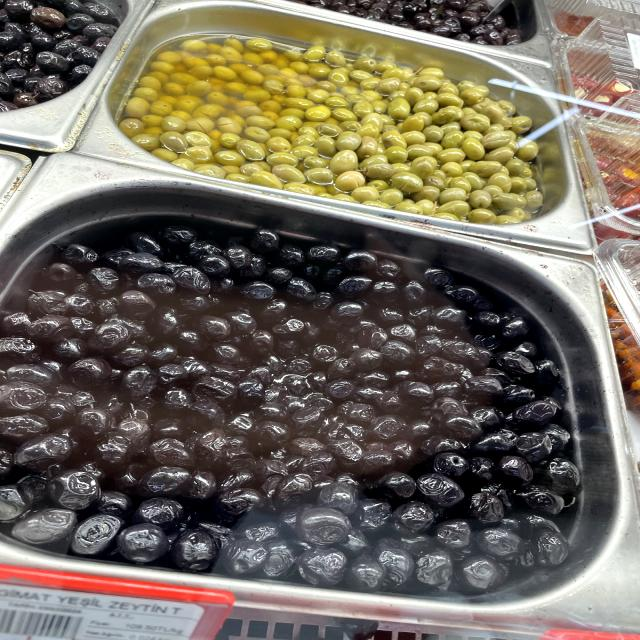olive: (67, 507, 125, 563), (289, 504, 360, 548), (136, 433, 205, 476), (410, 465, 470, 513), (171, 523, 221, 579), (0, 378, 59, 417), (85, 318, 134, 354), (192, 314, 235, 343)
